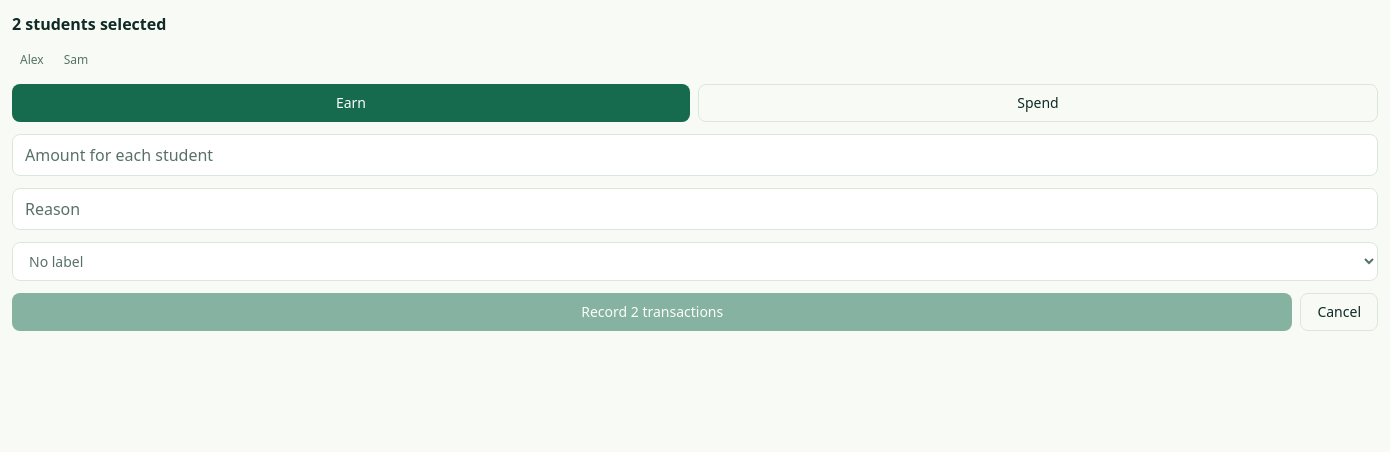
Test: GroupTransactionComposer › shows a lower effect preview for Spend
Click the button "Spend" at (1038, 103), box [698,84,1378,122]
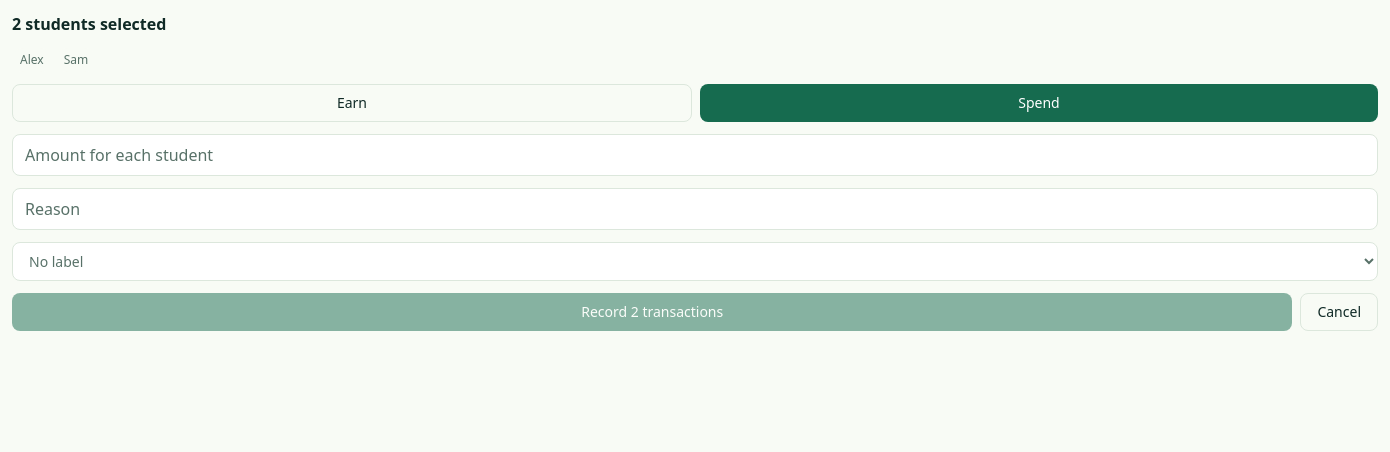
Type "2" into the field with placeholder "Amount for each student" at (695, 155), box [12,134,1378,176]
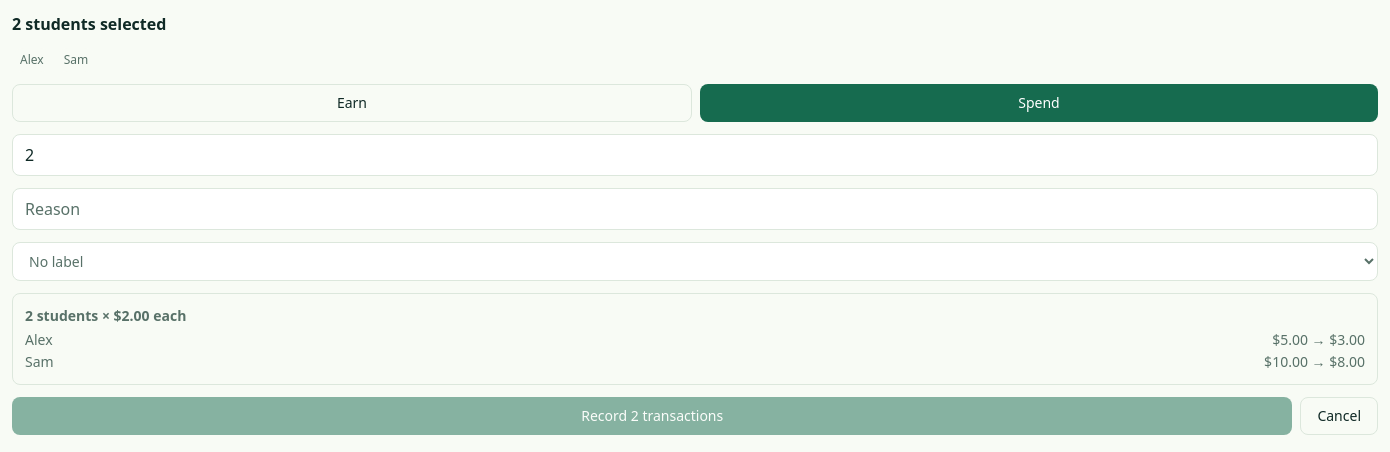
Check: the text "$5.00 → $3.00" is shown, box [1272,330,1365,350]
